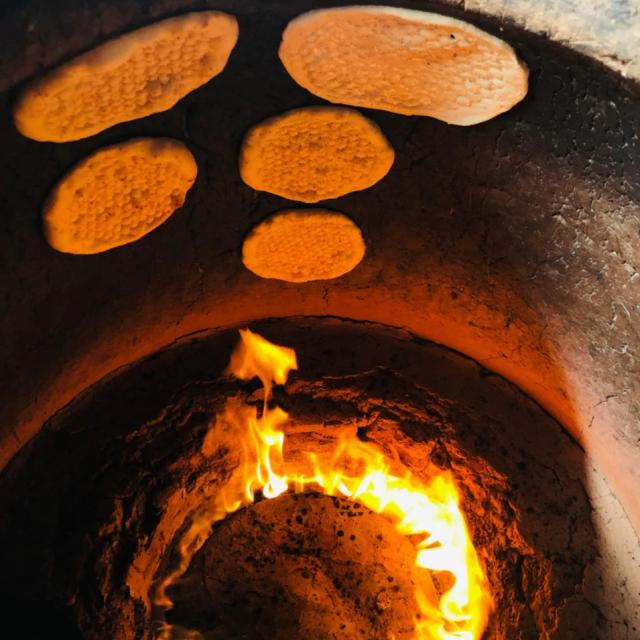fire: (351, 470, 468, 551), (416, 551, 473, 640), (222, 327, 299, 390), (248, 391, 290, 499), (292, 472, 352, 498)
